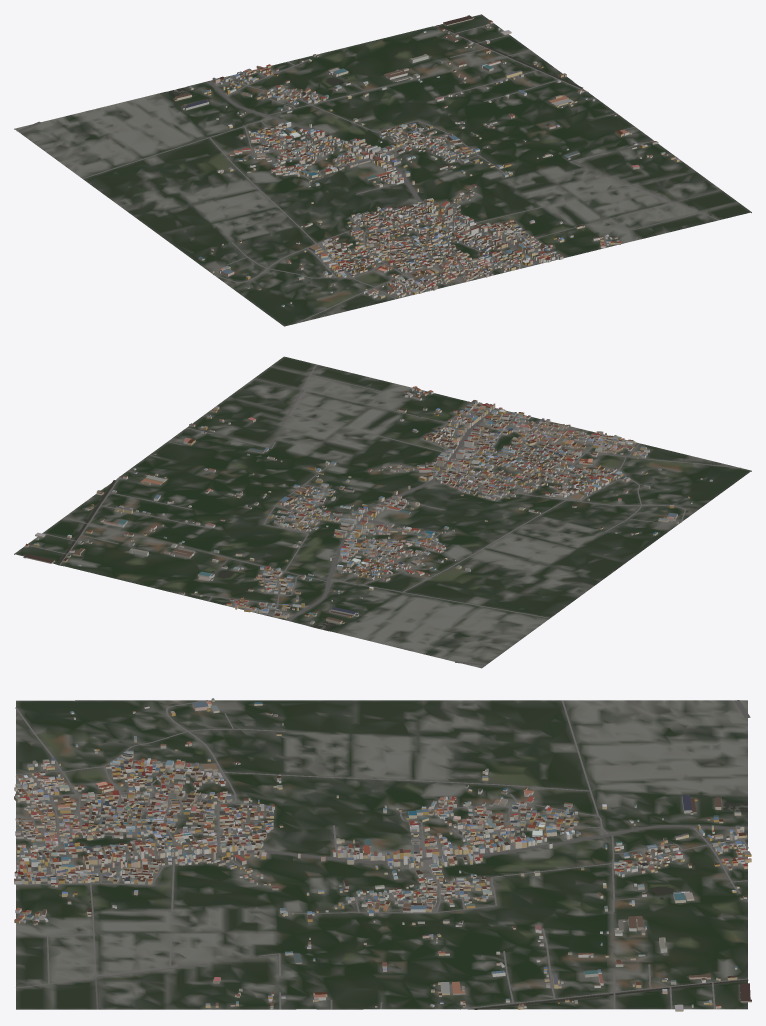
The picture shows the model from 3 angles, top to bottom: view 1: azimuth 30°, elevation 25°; view 2: azimuth 150°, elevation 25°; view 3: azimuth 270°, elevation 25°; orthographic projection. The views are drawn at different scales.
Parts seen in each view (by area): view 1: ground, buildings, roads; view 2: ground, buildings, roads; view 3: ground, buildings, roads, water.
Boxes of the visible parts, bbox=[...] form: ground: bbox=[14, 14, 751, 326]; buildings: bbox=[174, 15, 679, 306]; roads: bbox=[17, 23, 721, 323]; ground: bbox=[14, 356, 751, 668]; buildings: bbox=[23, 386, 712, 624]; roads: bbox=[29, 364, 740, 665]; ground: bbox=[16, 700, 747, 1009]; buildings: bbox=[14, 698, 751, 1011]; roads: bbox=[15, 700, 750, 1009]; water: bbox=[89, 802, 748, 1009].
Size of the model in its own units: 1412 by 20.55 by 1413.
